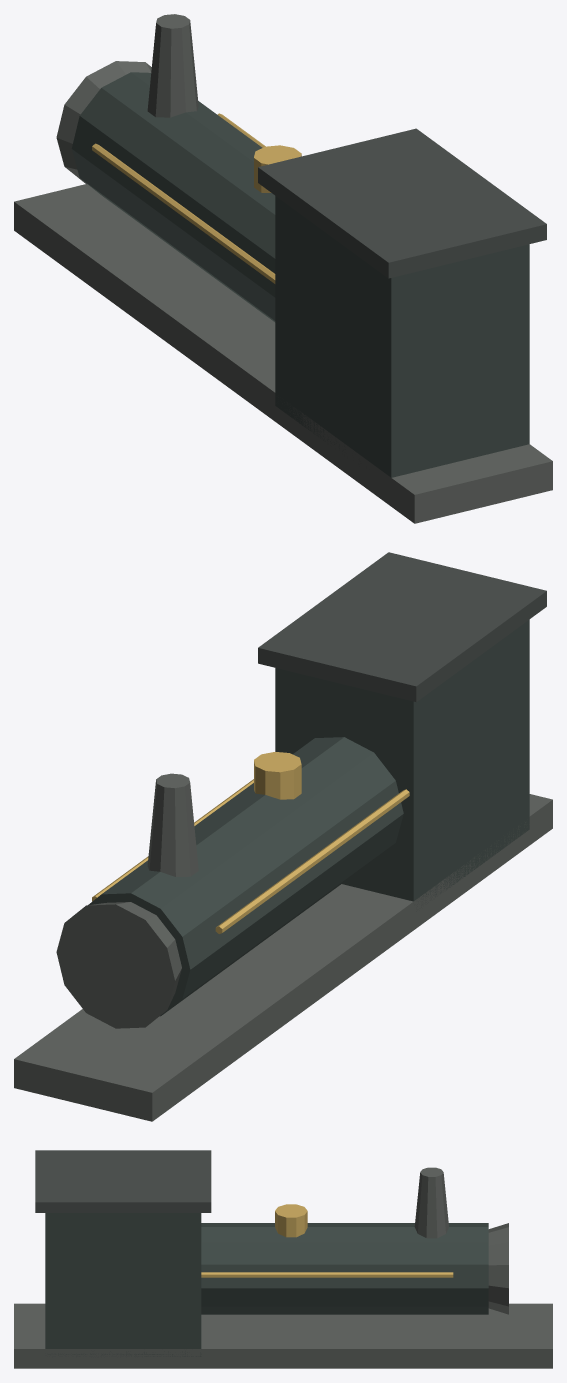
The model's file is nord-2-6-0_lod1.glb.
The picture shows the model from 3 angles, top to bottom: view 1: azimuth 30°, elevation 25°; view 2: azimuth 150°, elevation 25°; view 3: azimuth 270°, elevation 25°; orthographic projection. The views are drawn at different scales.
Visible parts, largest first — view 1: RF_Loco_Cab, RF_Loco_Chassis, RF_Loco_Boiler, RF_Loco_Roof, RF_Loco_Stack, RF_Loco_Smokebox, RF_Loco_MainPipe.001, RF_Loco_Dome; view 2: RF_Loco_Chassis, RF_Loco_Cab, RF_Loco_Boiler, RF_Loco_Roof, RF_Loco_Smokebox, RF_Loco_Stack, RF_Loco_MainPipe.001, RF_Loco_Dome; view 3: RF_Loco_Chassis, RF_Loco_Boiler, RF_Loco_Cab, RF_Loco_Roof, RF_Loco_Stack, RF_Loco_Smokebox, RF_Loco_MainPipe, RF_Loco_Dome.
Boxes of the visible parts, x1,y1,x2,y2 form: RF_Loco_Cab: (275,196,529,477); RF_Loco_Chassis: (14,184,552,523); RF_Loco_Boiler: (71,72,275,322); RF_Loco_Roof: (258,128,546,278); RF_Loco_Stack: (147,14,198,117); RF_Loco_Smokebox: (56,61,151,184); RF_Loco_MainPipe.001: (92,143,275,283); RF_Loco_Dome: (254,145,301,192); RF_Loco_Chassis: (14,794,552,1121); RF_Loco_Cab: (275,619,529,911); RF_Loco_Boiler: (88,737,403,1016); RF_Loco_Roof: (258,552,546,702); RF_Loco_Smokebox: (56,902,181,1028); RF_Loco_Stack: (147,773,198,876); RF_Loco_MainPipe.001: (215,789,409,933); RF_Loco_Dome: (254,751,301,799); RF_Loco_Chassis: (14,1303,552,1368); RF_Loco_Boiler: (201,1223,488,1314); RF_Loco_Cab: (45,1213,201,1356); RF_Loco_Roof: (35,1150,211,1212); RF_Loco_Stack: (414,1167,448,1238); RF_Loco_Smokebox: (488,1223,508,1314); RF_Loco_MainPipe: (201,1272,453,1277); RF_Loco_Dome: (275,1204,307,1237).
Size of the model in its own units: 3.15 by 4.9 by 13.8.
